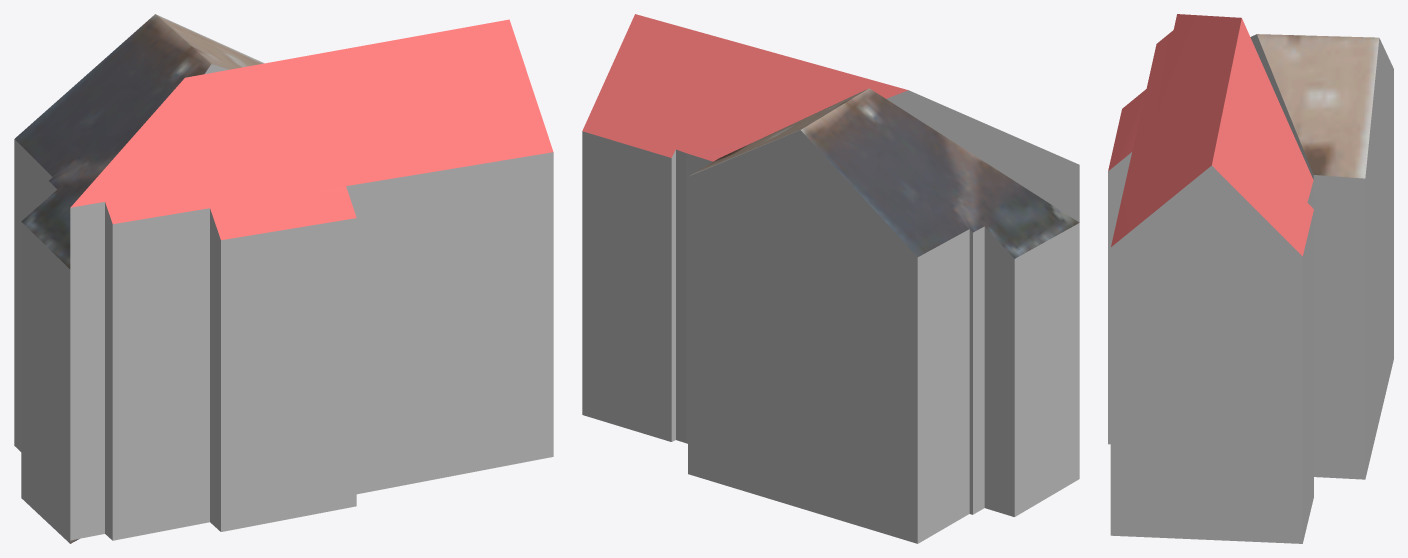
Rendered from DEBW_0010007Txh2.gltf.
3 renders of one model, left to right at view 1: azimuth 30°, elevation 25°; view 2: azimuth 150°, elevation 25°; view 3: azimuth 270°, elevation 25°, orthographic. The views are drawn at different scales.
Visible parts, largest first — view 1: Z_UP; view 2: Z_UP; view 3: Z_UP.
Part boxes in pixels (left/top/right/bottom): Z_UP: left=14, top=14, right=553, bottom=543; Z_UP: left=582, top=14, right=1079, bottom=543; Z_UP: left=1108, top=14, right=1393, bottom=543.
Size of the model in its own units: 23.5 by 19.51 by 13.2.
Materials: 3 (1 with a texture image).
